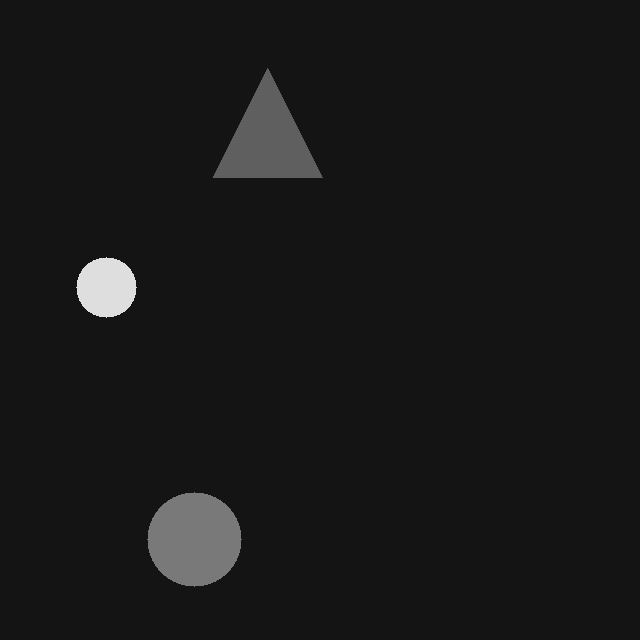circle: (147, 492, 241, 586), (76, 257, 136, 317)
triangle: (213, 68, 322, 177)
